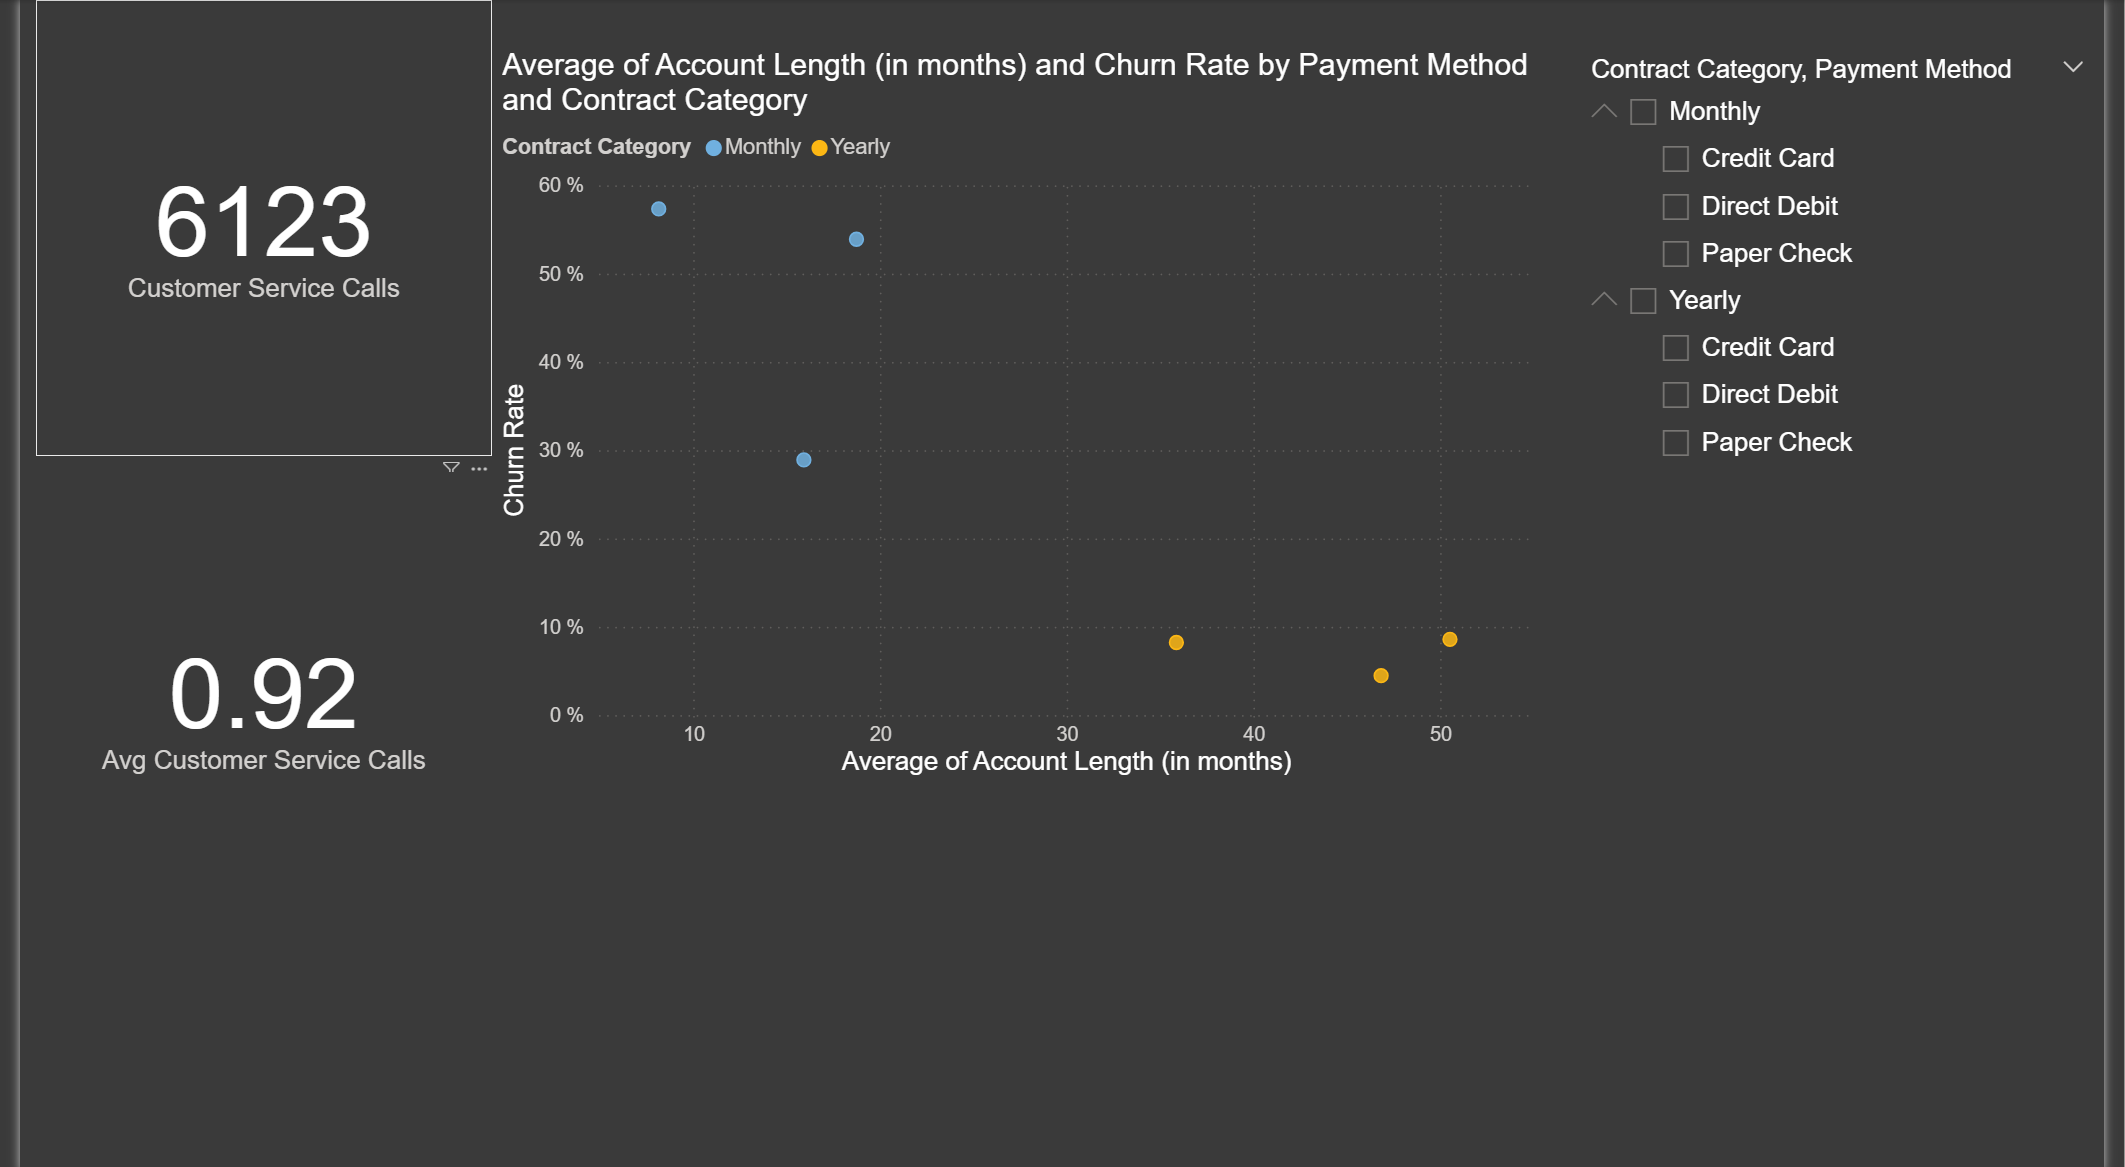

What the dashboard file says about the page in this screenshot:
{"tool":"powerbi","page":{"name":"Payment and Contract","canvas":[1280,720],"ordinal":7},"visuals":[{"type":"card","fields":{"Values":["Sum(Databel - Data.Customer Service Calls)"]},"box":[10,0,280,280],"z":0},{"type":"card","fields":{"Values":["Databel - Data.Avg Customer Service Calls"]},"box":[10,290,280,280],"z":1000},{"type":"scatterChart","fields":{"Y":["Databel - Data.Churn Rate"],"X":["Databel - Data.Account Length (in months)"],"Category":["Databel - Data.Payment Method"],"Series":["Databel - Data.Contract Category"]},"box":[291.2,28.9,650.6,452.8],"z":2000},{"type":"slicer","fields":{"Values":["Databel - Data.Contract Category","Databel - Data.Payment Method"]},"box":[952,29,328,442],"z":3000}]}

Visuals, with their boxes in screenshot pixels (x1, y1, x2, y2), scaled from the page's 1280x720 canvas onto the 2125x1167 screenshot:
card - Sum(Databel - Data.Customer Service Calls): pyautogui.locateOnScreen(17, 0, 481, 454)
card - Databel - Data.Avg Customer Service Calls: pyautogui.locateOnScreen(17, 470, 481, 924)
scatterChart - Databel - Data.Churn Rate x Databel - Data.Account Length (in months): pyautogui.locateOnScreen(483, 47, 1564, 781)
slicer - Databel - Data.Contract Category x Databel - Data.Payment Method: pyautogui.locateOnScreen(1580, 47, 2124, 763)
